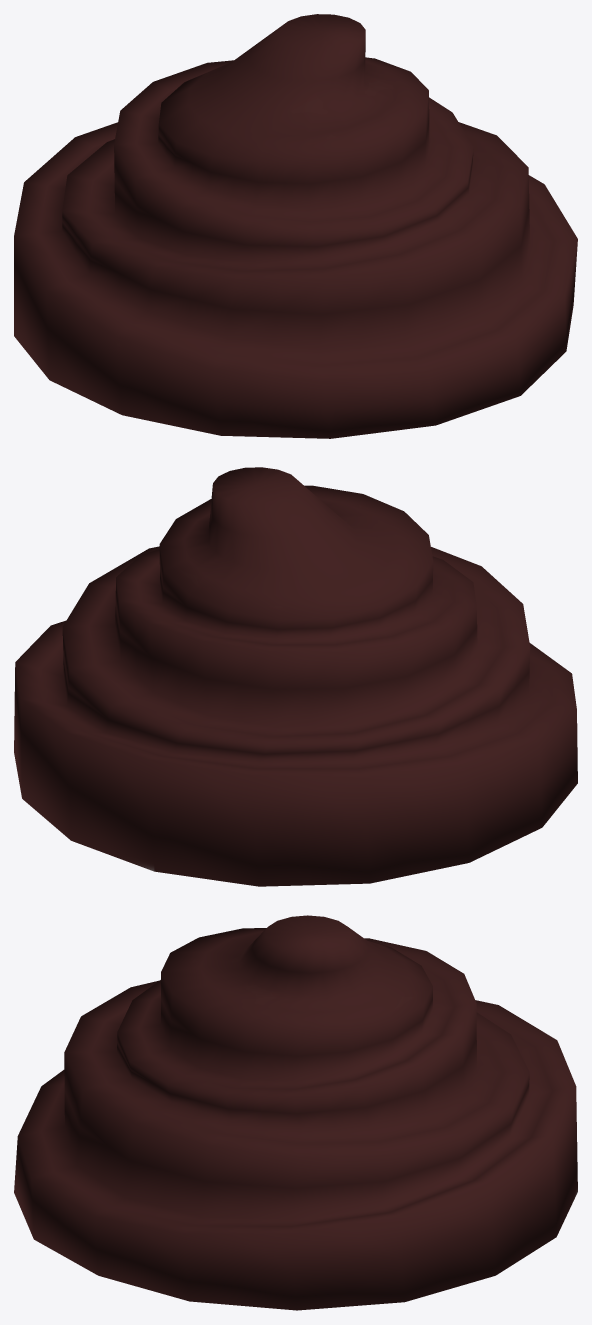
The model's file is poop.glb.
3 views of the same model, one above another, from view 1: azimuth 30°, elevation 25°; view 2: azimuth 150°, elevation 25°; view 3: azimuth 270°, elevation 25° (orthographic).
Parts seen in each view (by area): view 1: Cylinder; view 2: Cylinder; view 3: Cylinder.
Boxes of the visible parts, x1,y1,x2,y2 form: Cylinder: (14,14,577,438); Cylinder: (14,467,577,886); Cylinder: (14,915,577,1310).
Size of the model in its own units: 1.72 by 0.9263 by 1.71.
1 material, 1 textured.
